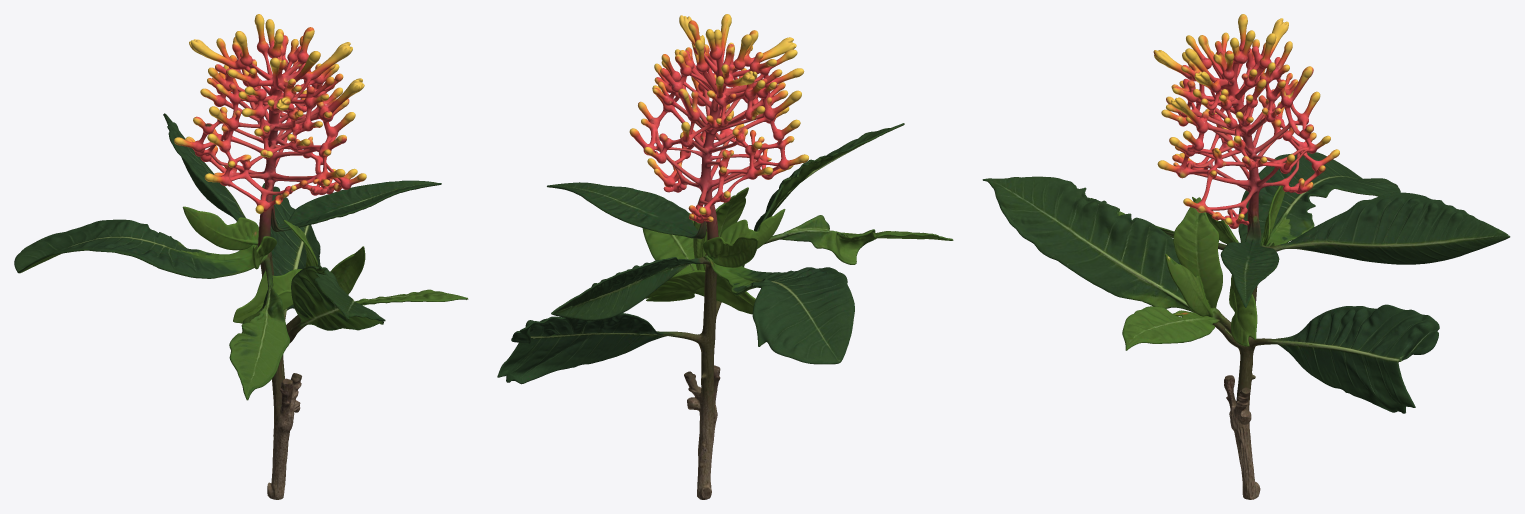
The model's file is isertia_haenkeana.fbx.
3 renders of one model, left to right at view 1: azimuth 30°, elevation 25°; view 2: azimuth 150°, elevation 25°; view 3: azimuth 270°, elevation 25°, orthographic. The views are drawn at different scales.
Visible parts, largest first — view 1: tripo_node_1f1ec4b4; view 2: tripo_node_1f1ec4b4; view 3: tripo_node_1f1ec4b4.
Boxes of the visible parts, x1,y1,x2,y2 form: tripo_node_1f1ec4b4: (14,14,468,499); tripo_node_1f1ec4b4: (497,14,953,499); tripo_node_1f1ec4b4: (982,14,1510,499).
Size of the model in its own units: 75.44 by 95.28 by 98.37.
1 material, 1 textured.
